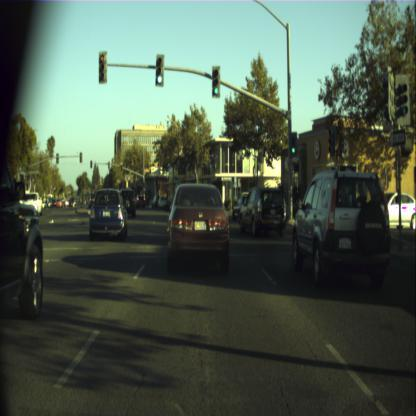Green: (212, 65, 220, 97), (156, 53, 163, 84), (401, 82, 407, 117), (290, 134, 298, 156)
RedLeft: (99, 52, 107, 81)
